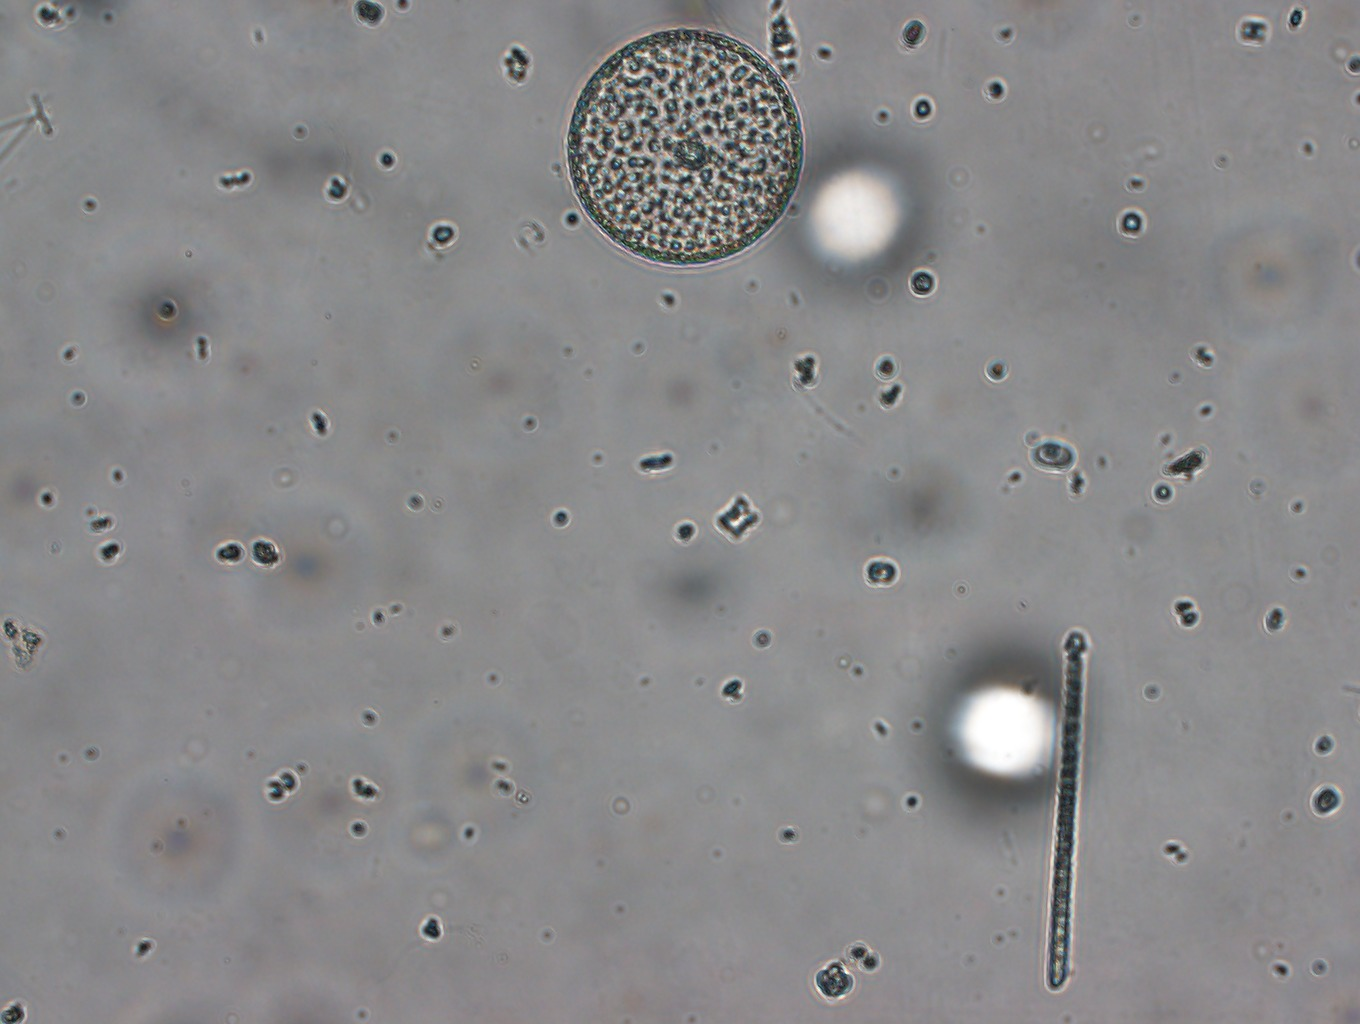coscinodiscus: (557, 27, 808, 276)
